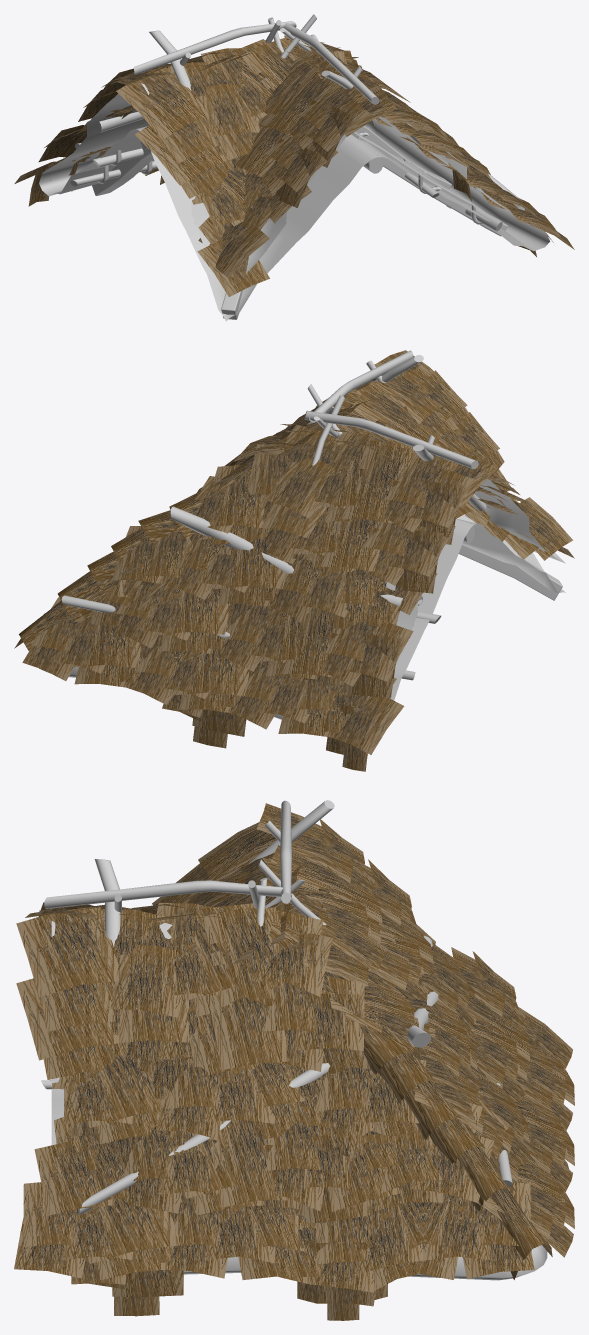
The model's file is SM_roofCorner6m_a1.fbx.
3 views of the same model, one above another, from view 1: azimuth 30°, elevation 25°; view 2: azimuth 150°, elevation 25°; view 3: azimuth 270°, elevation 25° (orthographic). The views are drawn at different scales.
Visible parts, largest first — view 1: SM_roofCorner6m_a1_LOD0; view 2: SM_roofCorner6m_a1_LOD0; view 3: SM_roofCorner6m_a1_LOD0.
Part boxes in pixels (x1,y1,x2,y2): SM_roofCorner6m_a1_LOD0: (14, 14, 574, 321); SM_roofCorner6m_a1_LOD0: (14, 350, 574, 771); SM_roofCorner6m_a1_LOD0: (14, 800, 574, 1320).
Bounding box in the file's own units: 743 × 733 × 470.
4 materials, 1 textured.
